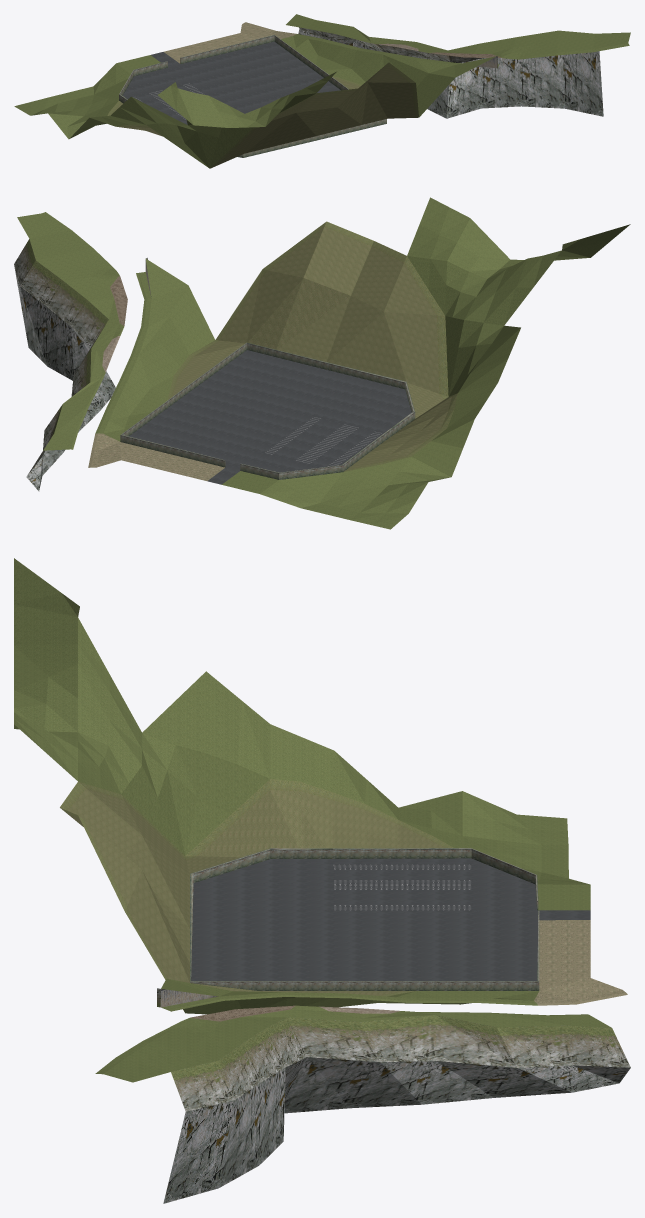
File: cuntwland_de.obj
3 renders of one model, top to bottom at view 1: azimuth 30°, elevation 25°; view 2: azimuth 150°, elevation 25°; view 3: azimuth 270°, elevation 25°, orthographic. The views are drawn at different scales.
Parts seen in each view (by area): view 1: cuntwland_de; view 2: cuntwland_de; view 3: cuntwland_de.
Part boxes in pixels (x1,y1,x2,y2): cuntwland_de: (14, 14, 630, 168); cuntwland_de: (14, 197, 630, 529); cuntwland_de: (14, 558, 630, 1203).
Size of the model in its own units: 448 by 149 by 303.
